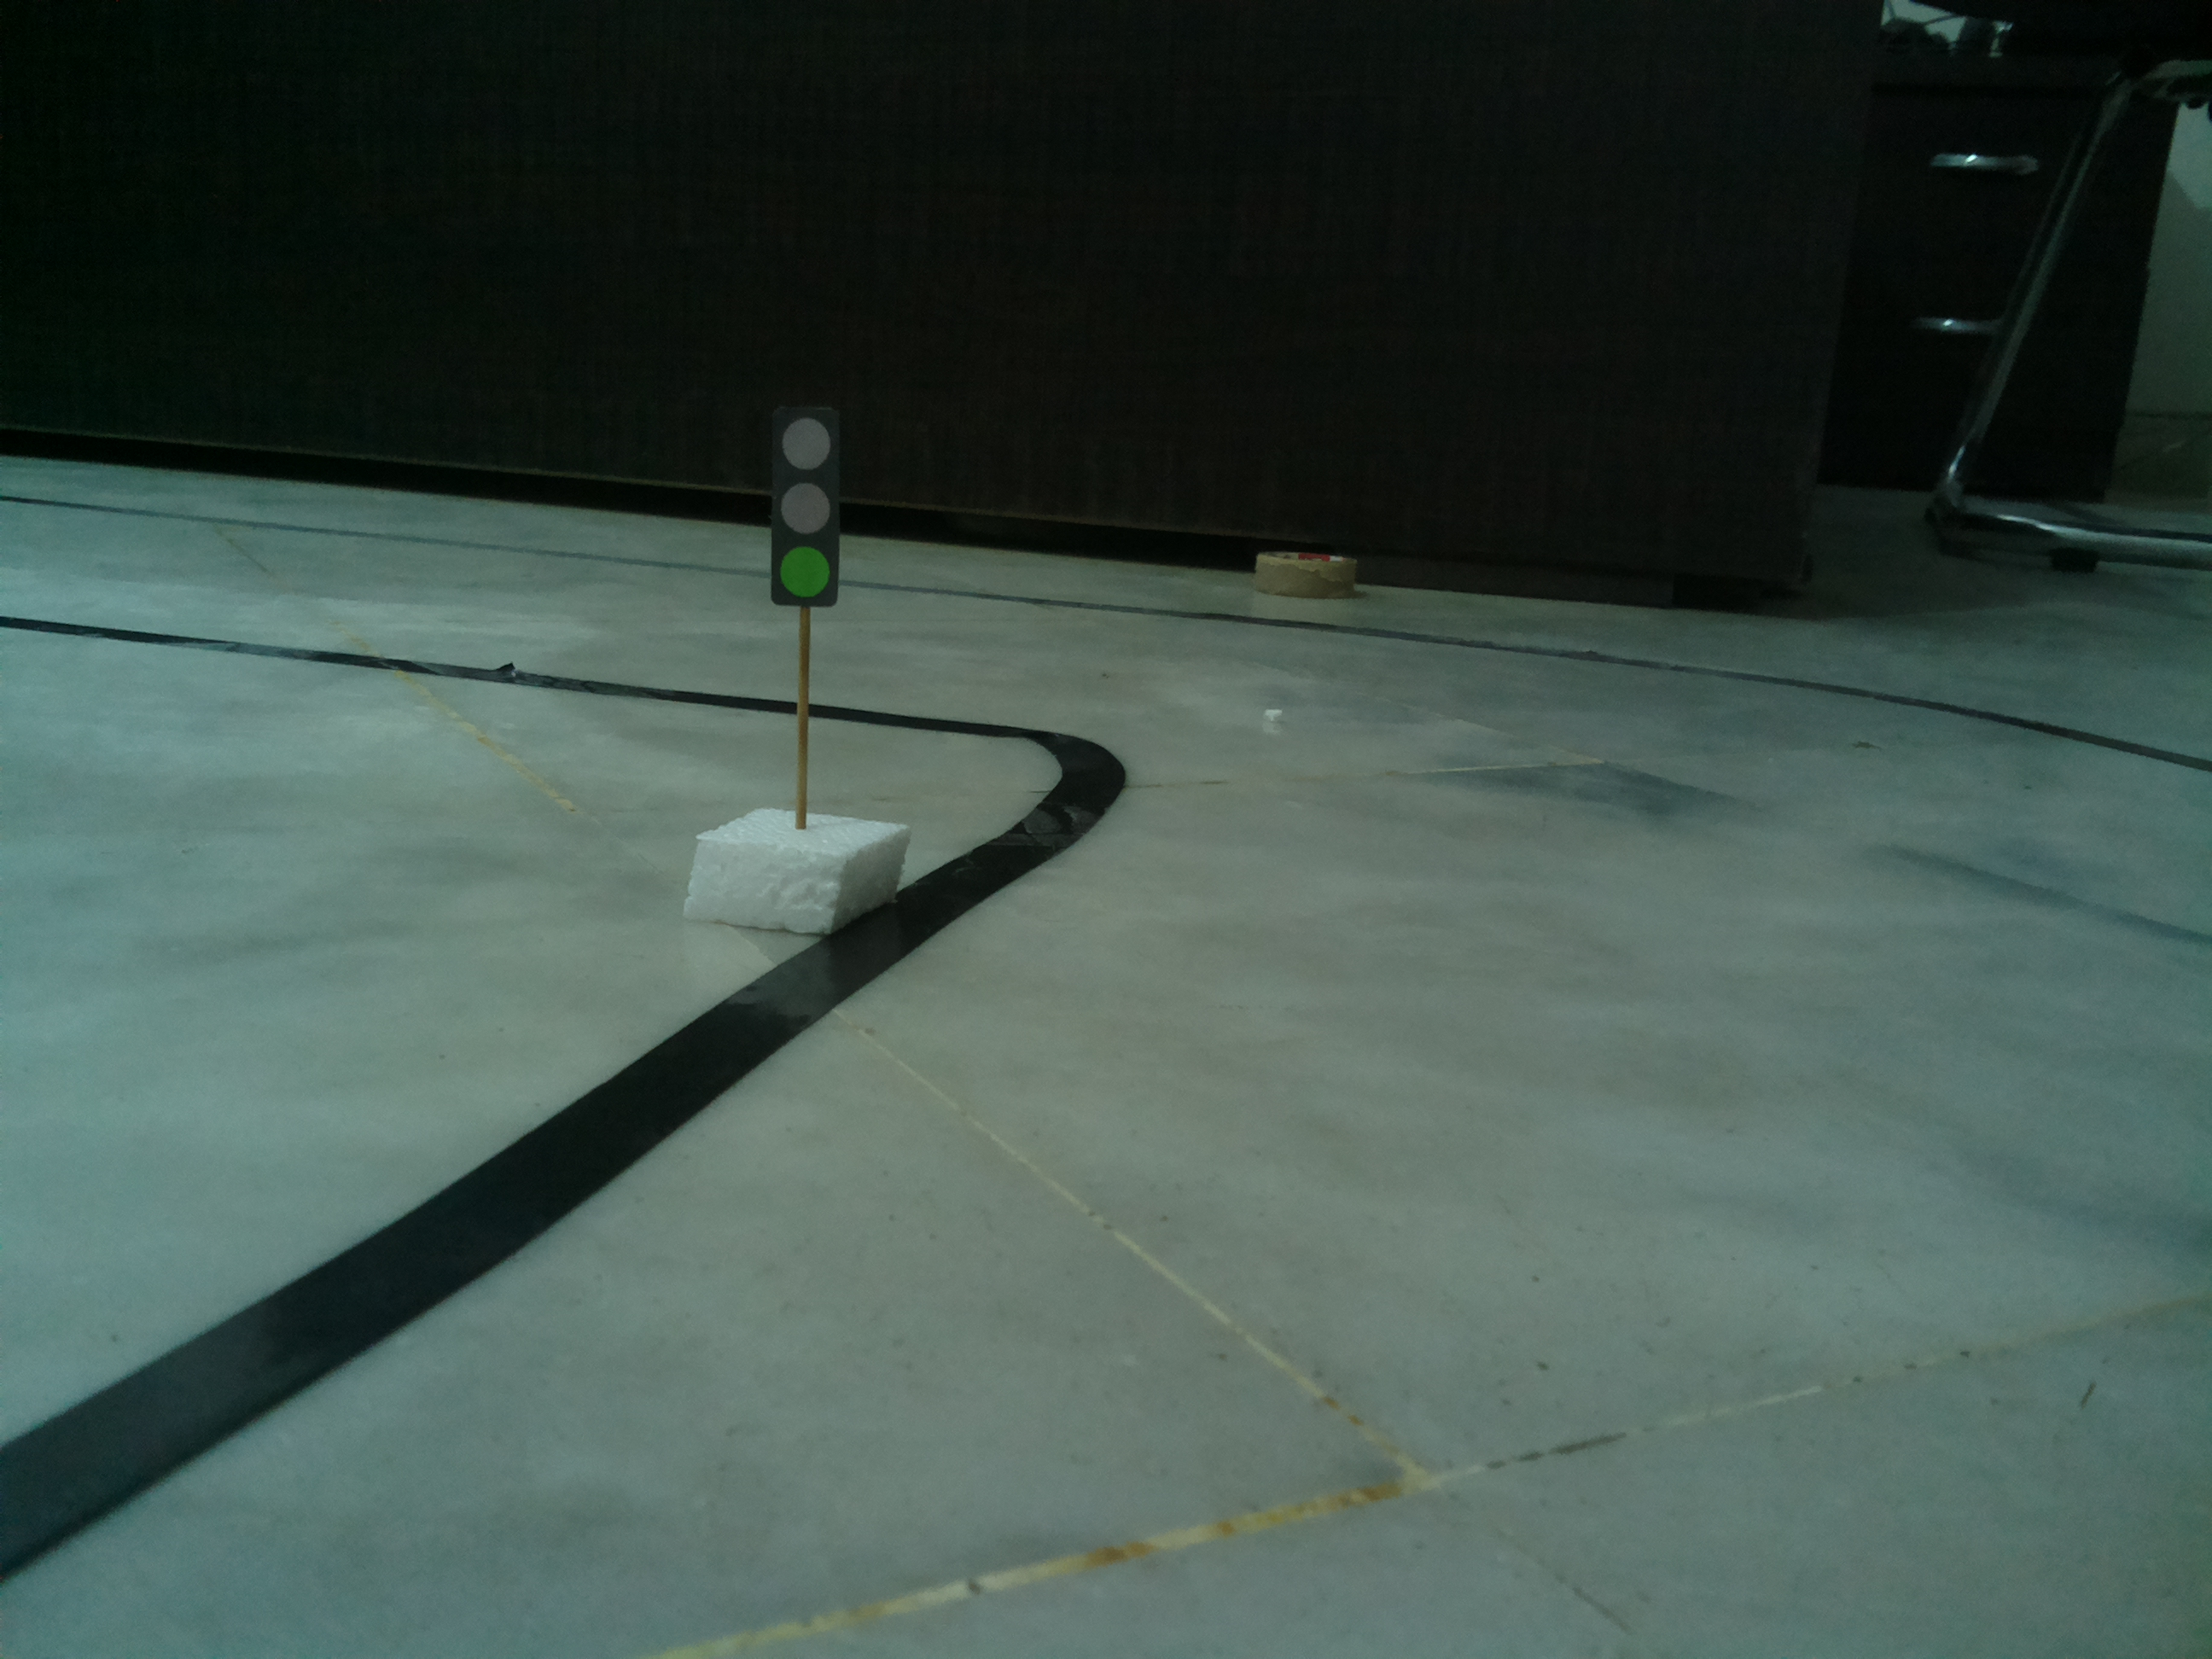Green traffic light: (766, 397, 845, 610)
